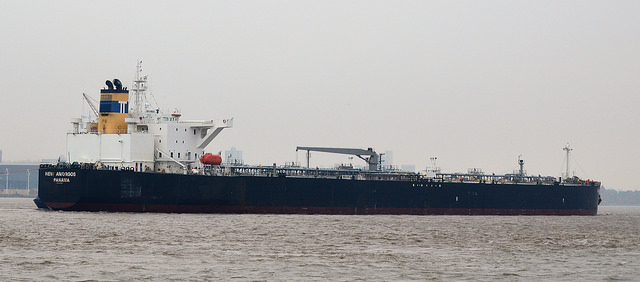tanker: (39, 62, 615, 224)
